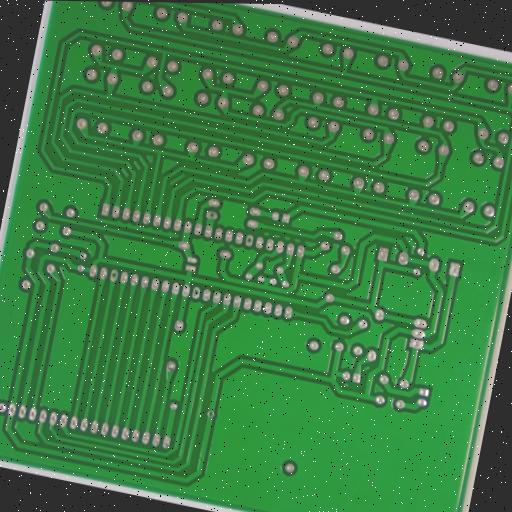missing_hole: (108, 268, 122, 284), (244, 234, 256, 247), (206, 210, 218, 222), (191, 287, 202, 300), (205, 408, 216, 420)
